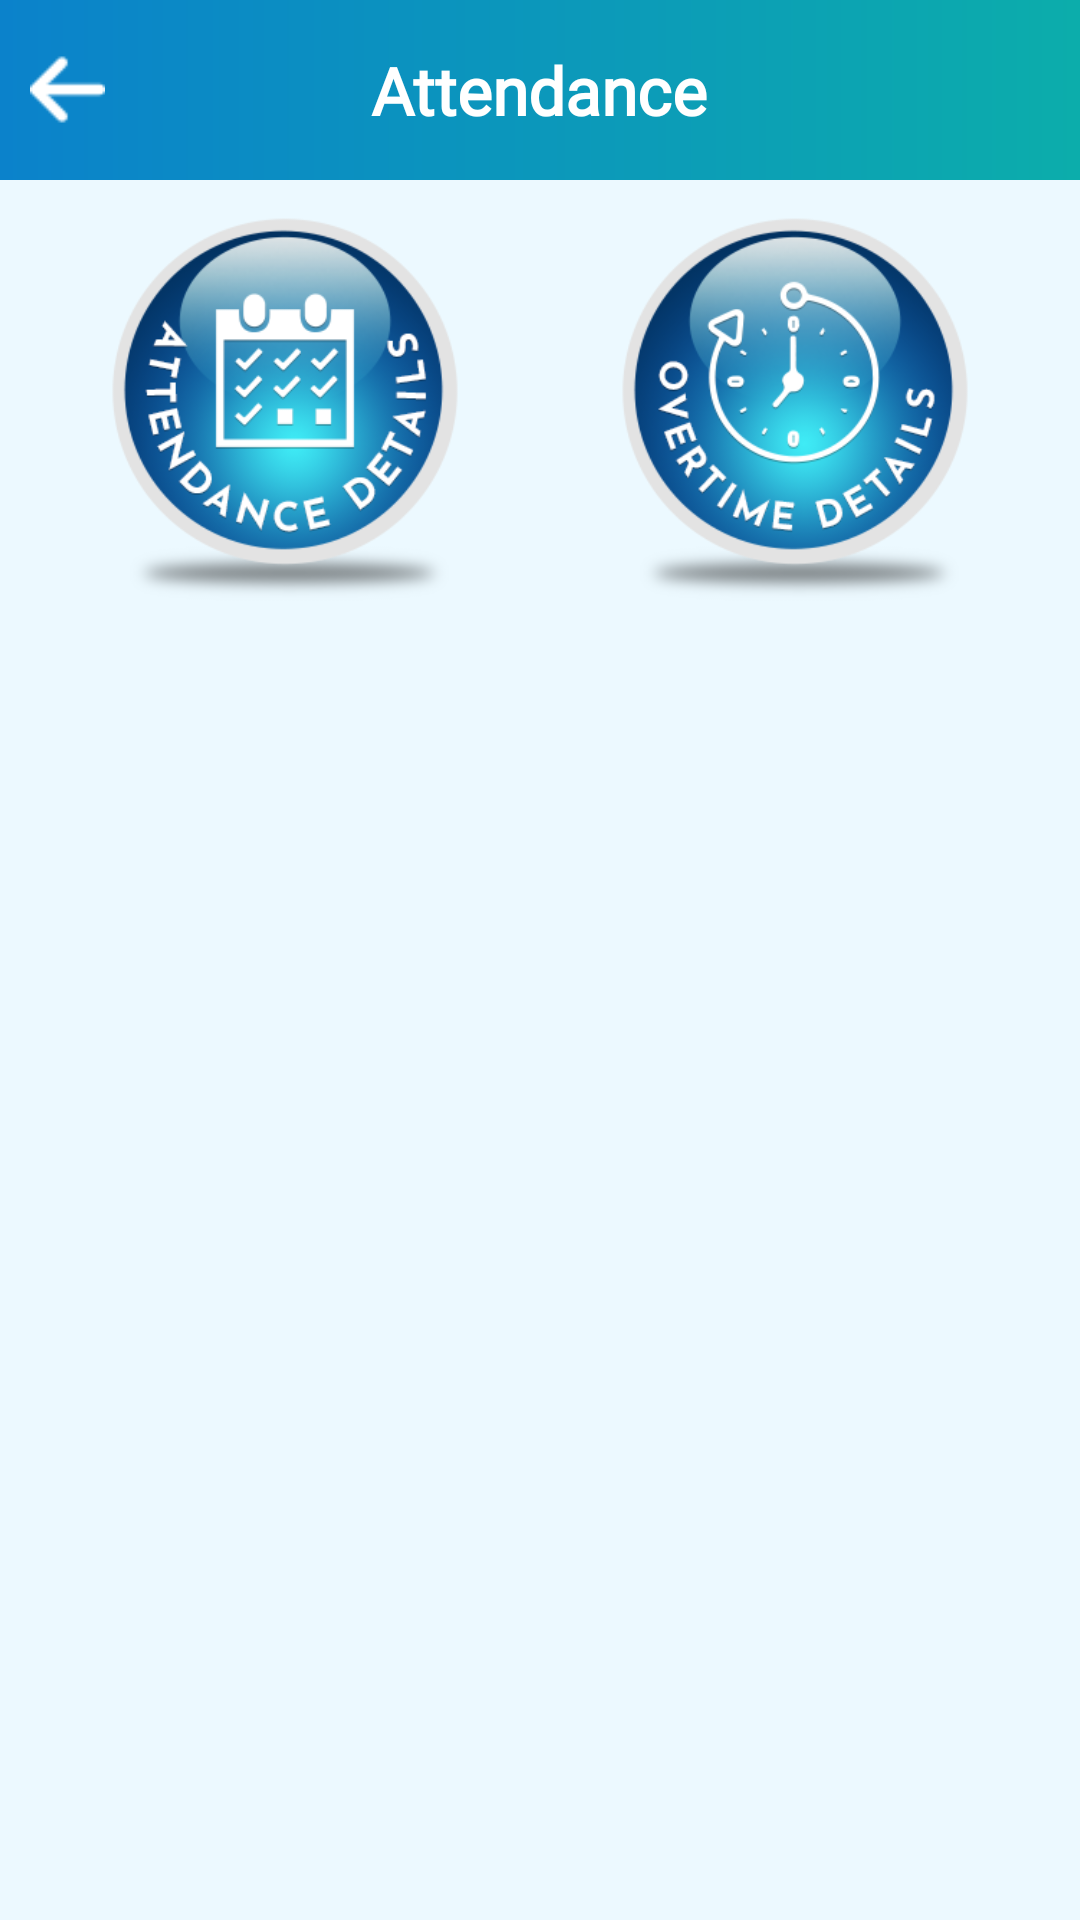

Where icons sit on this 1080px×1920px app screen, as {"x1": x1, "y1": y1, "x2": x2, "y2": y2}:
back arrow: {"x1": 30, "y1": 56, "x2": 105, "y2": 123}
